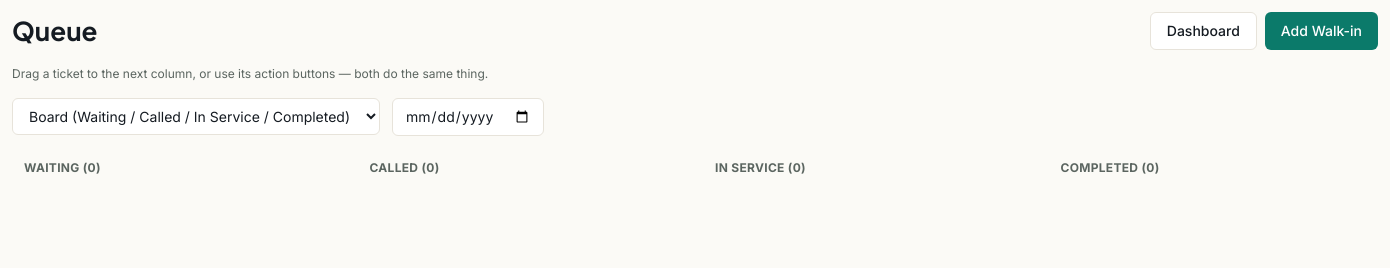
QueueListView › switches to a flat grid when filtering by a non-board status like CANCELLED
Select "CANCELLED" in the dropdown: (196, 116) x1=12 y1=98 x2=380 y2=135
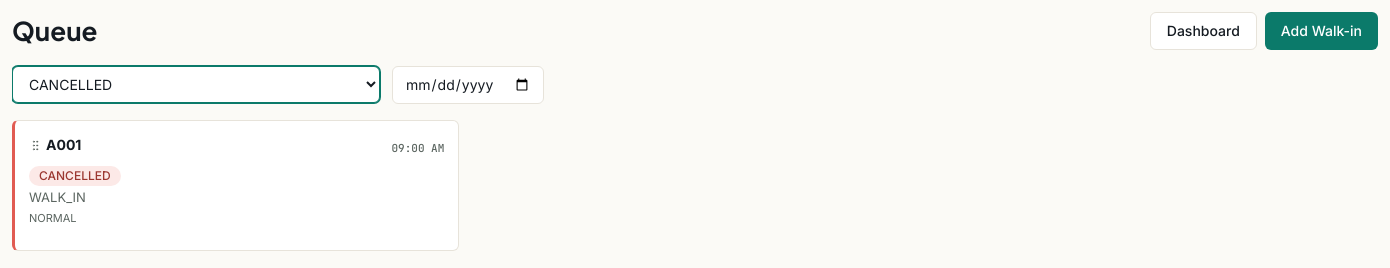
Expected: the element "A001" is shown, x1=12 y1=120 x2=459 y2=251
Expected: the text "WAITING (0)" is gone
